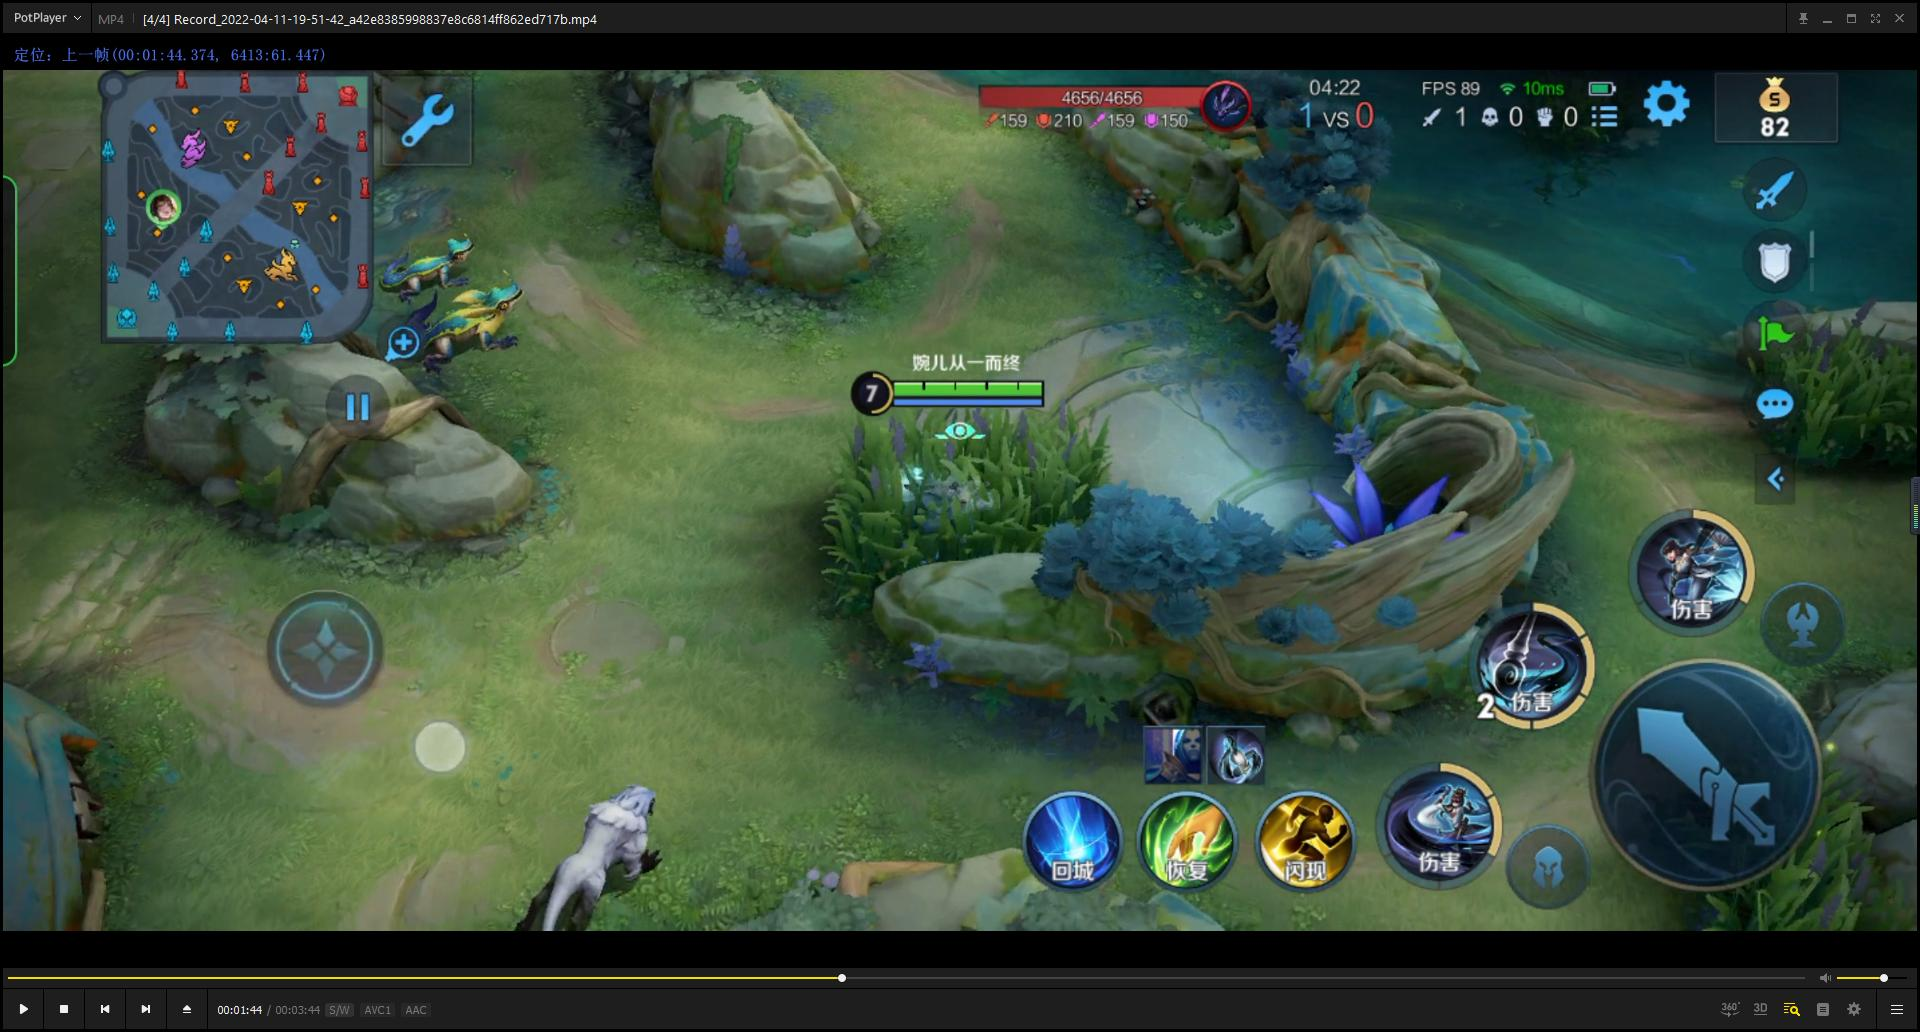Hero: (884, 447, 1037, 560)
Lizard: (382, 272, 535, 394), (367, 225, 490, 308)
Wolf: (518, 757, 673, 930)
